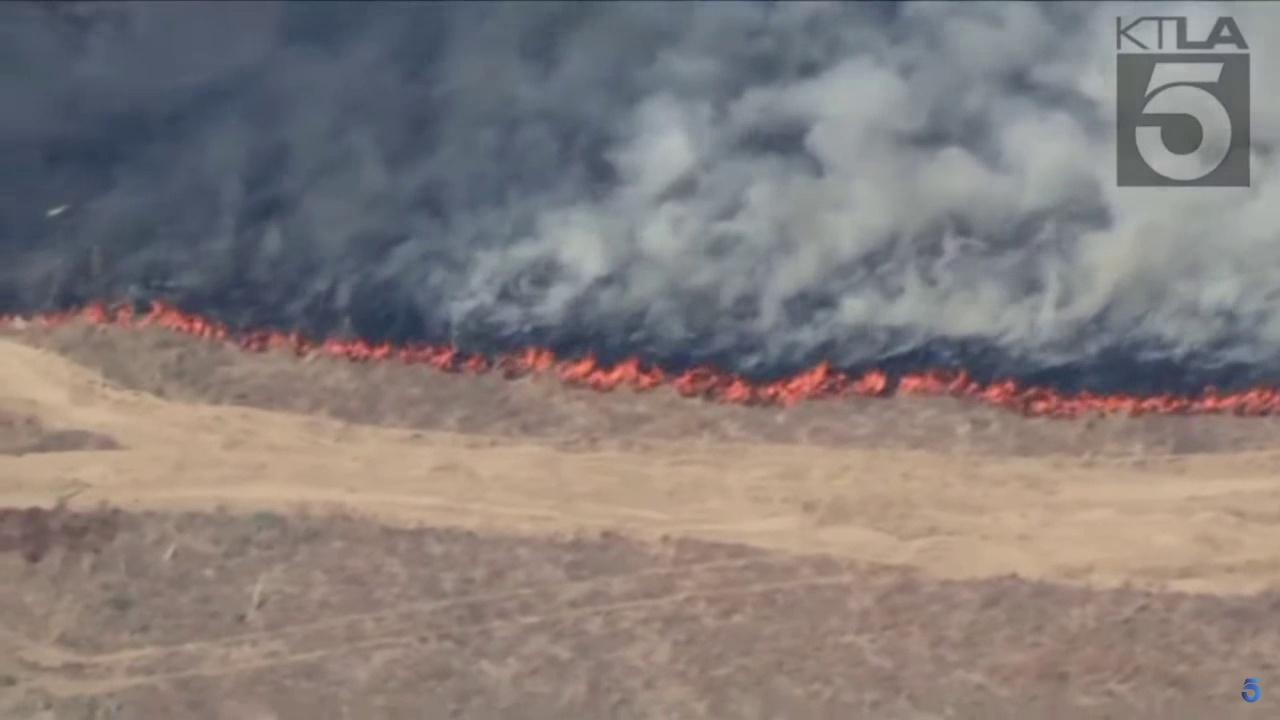fire: (0, 296, 1280, 424)
smoke: (0, 0, 1280, 383)
